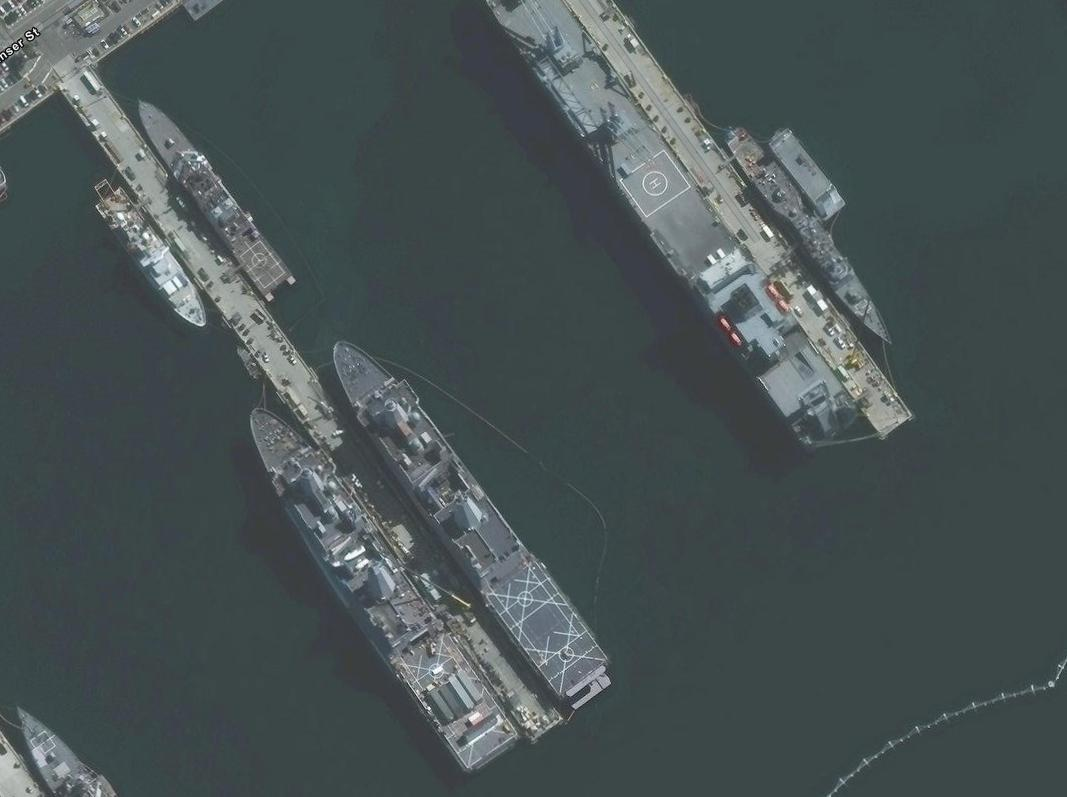amphiby: (228, 399, 523, 777), (328, 336, 619, 709)
